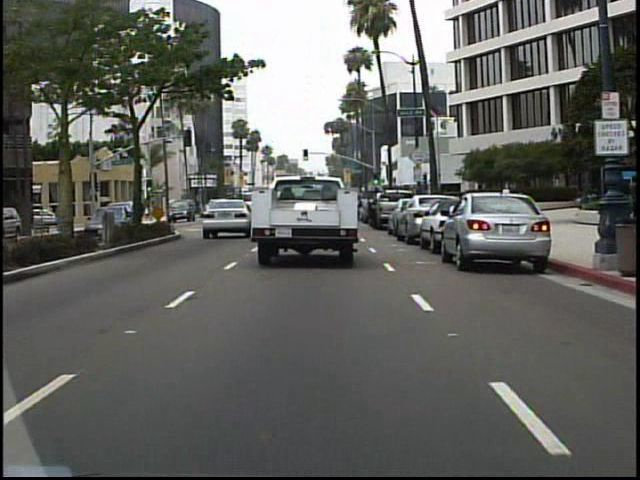person: (625, 173, 638, 213)
